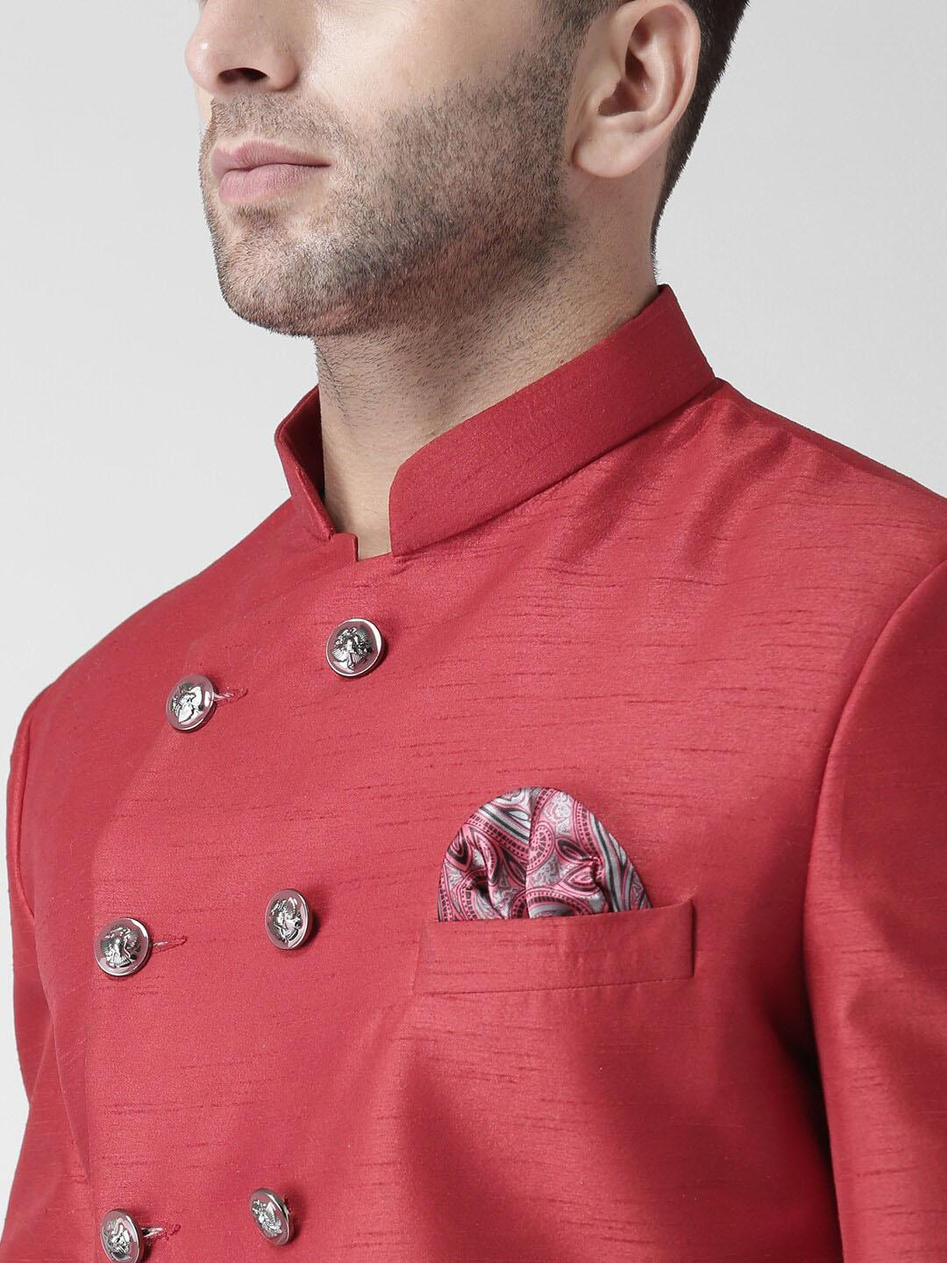Plain Sherwani: (2, 286, 943, 1254)
